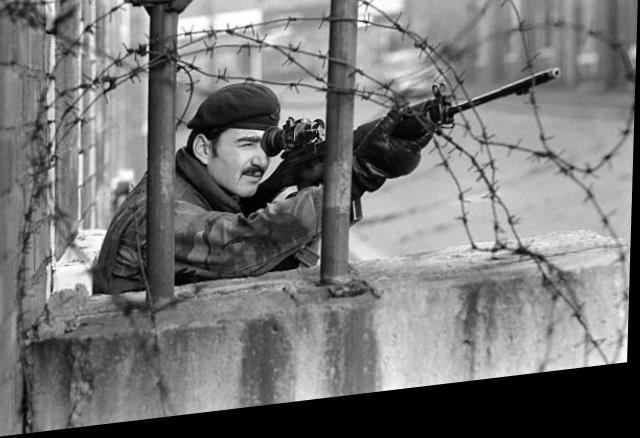other: (103, 79, 333, 289)
